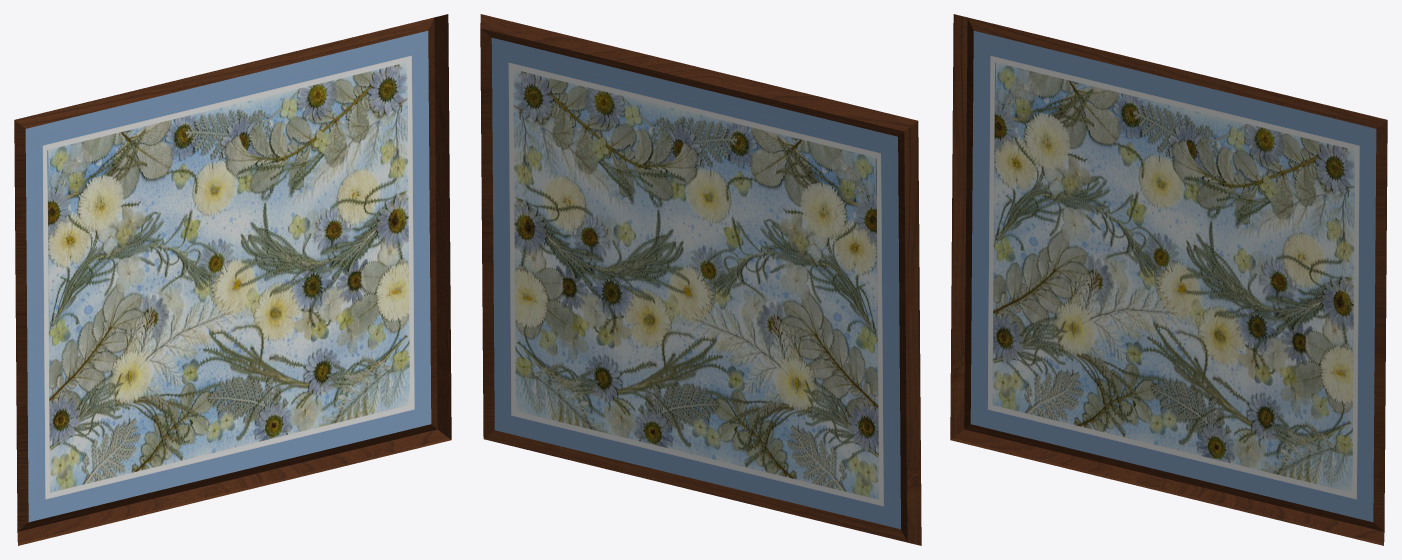
File: bihua01.fbx
3 renders of one model, left to right at view 1: azimuth 30°, elevation 25°; view 2: azimuth 150°, elevation 25°; view 3: azimuth 330°, elevation 25°, orthographic.
Parts seen in each view (by area): view 1: bihua01; view 2: bihua01; view 3: bihua01.
Part boxes in pixels (x1,y1,x2,y2): bihua01: (14,14,451,545); bihua01: (480,14,921,545); bihua01: (950,14,1387,545).
Size of the model in its own units: 69.49 by 64.89 by 2.9.
